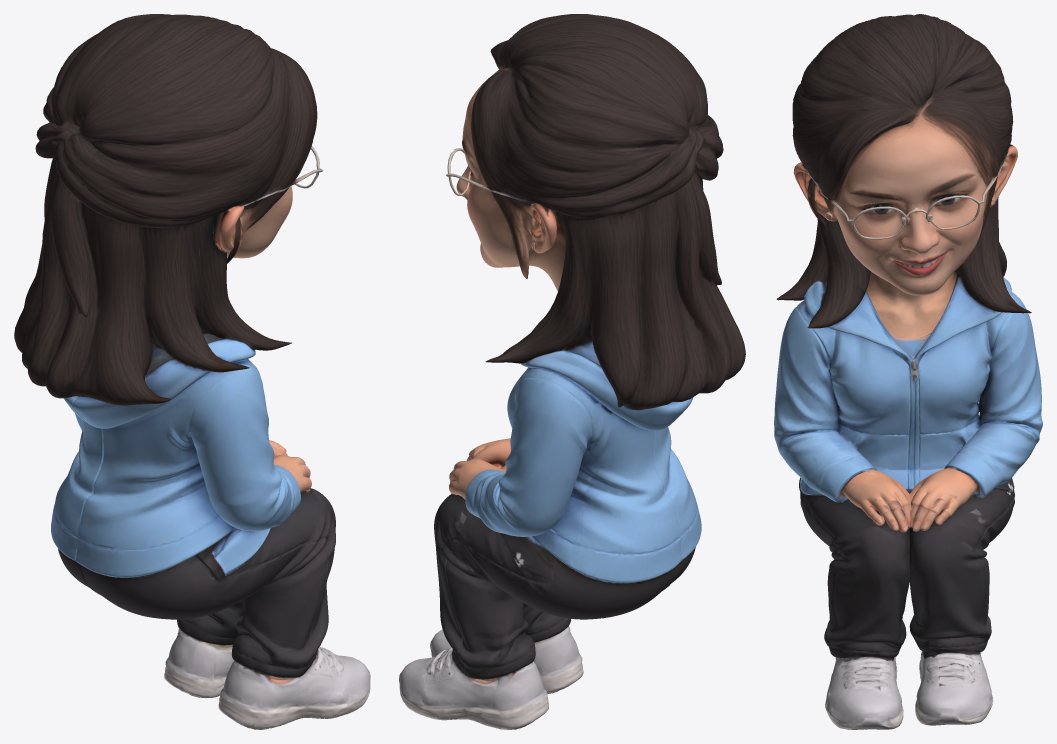
The picture shows the model from 3 angles, left to right: view 1: azimuth 30°, elevation 25°; view 2: azimuth 150°, elevation 25°; view 3: azimuth 270°, elevation 25°; orthographic projection. The views are drawn at different scales.
Visible parts, largest first — view 1: tripo_node_d135087d-44e9-4d53-9609-40c2a17ee795; view 2: tripo_node_d135087d-44e9-4d53-9609-40c2a17ee795; view 3: tripo_node_d135087d-44e9-4d53-9609-40c2a17ee795.
Boxes of the visible parts, x1,y1,x2,y2 form: tripo_node_d135087d-44e9-4d53-9609-40c2a17ee795: (14, 14, 370, 729); tripo_node_d135087d-44e9-4d53-9609-40c2a17ee795: (399, 14, 745, 729); tripo_node_d135087d-44e9-4d53-9609-40c2a17ee795: (774, 14, 1042, 729).
Bounding box in the file's own units: 0.4683 × 0.9801 × 0.3758.
Materials: 1 (1 with a texture image).
